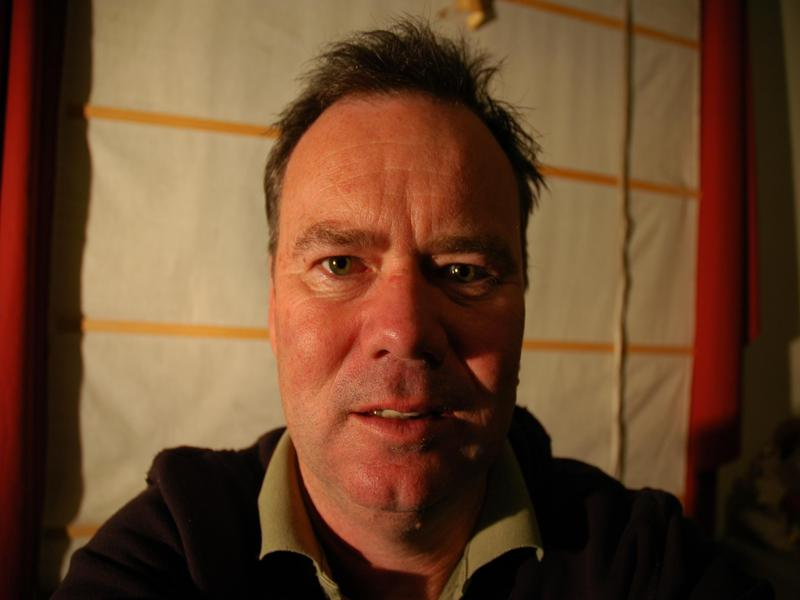person: (67, 29, 772, 600)
